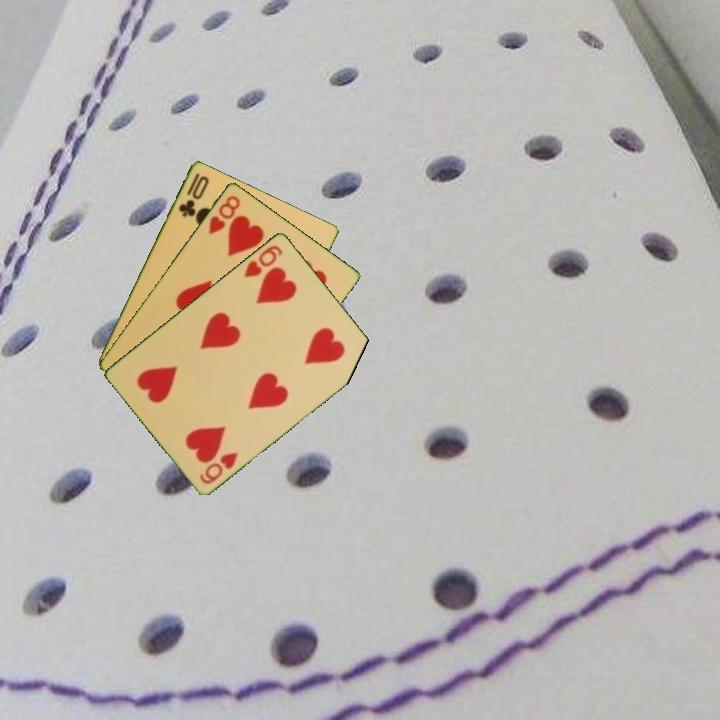10c: (175, 169, 212, 220)
6h: (240, 241, 285, 280), (196, 448, 241, 487)
8h: (205, 191, 243, 237)
